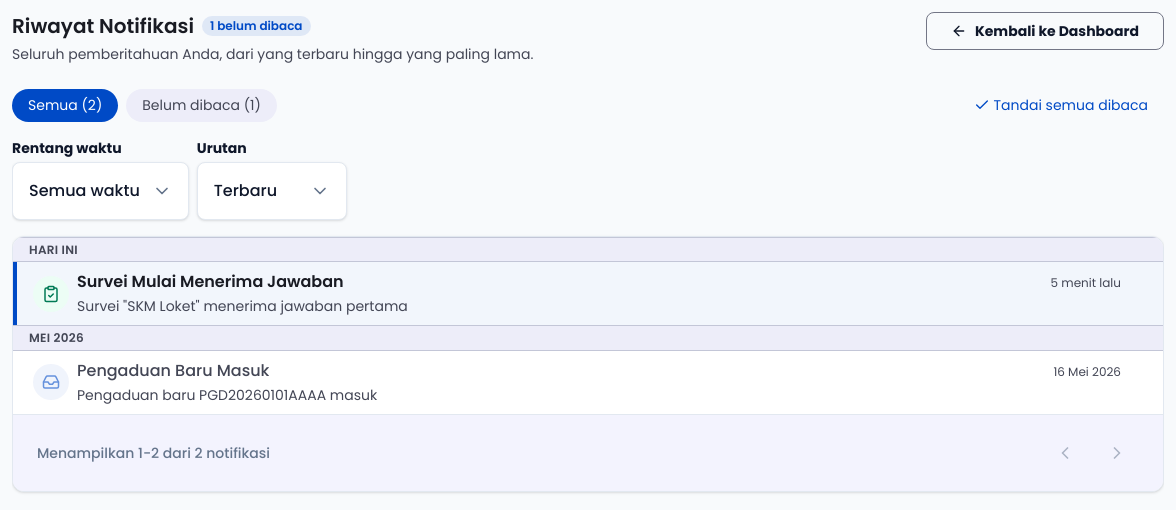
Test case: NotificationHistoryScreen › ringkasan & angka saringan › jumlah disegarkan sesudah menandai semua dibaca
Expected: the text "1 belum dibaca" is shown, [202,16,310,36]
Click the button "Tandai semua dibaca": click(1061, 105) [958,89,1164,122]
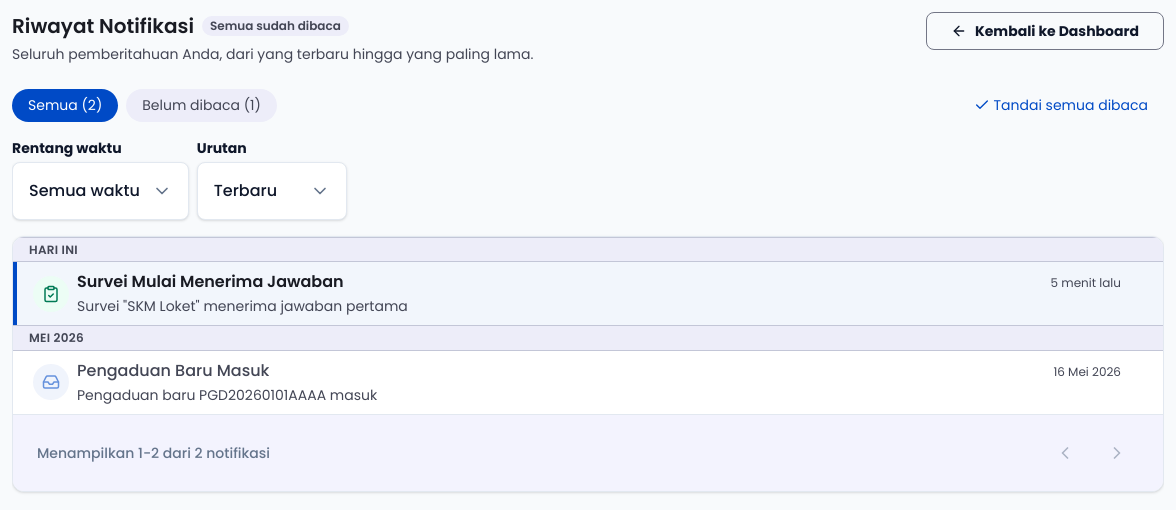
Now the text "Semua sudah dibaca" is shown, box [202,16,349,36]
